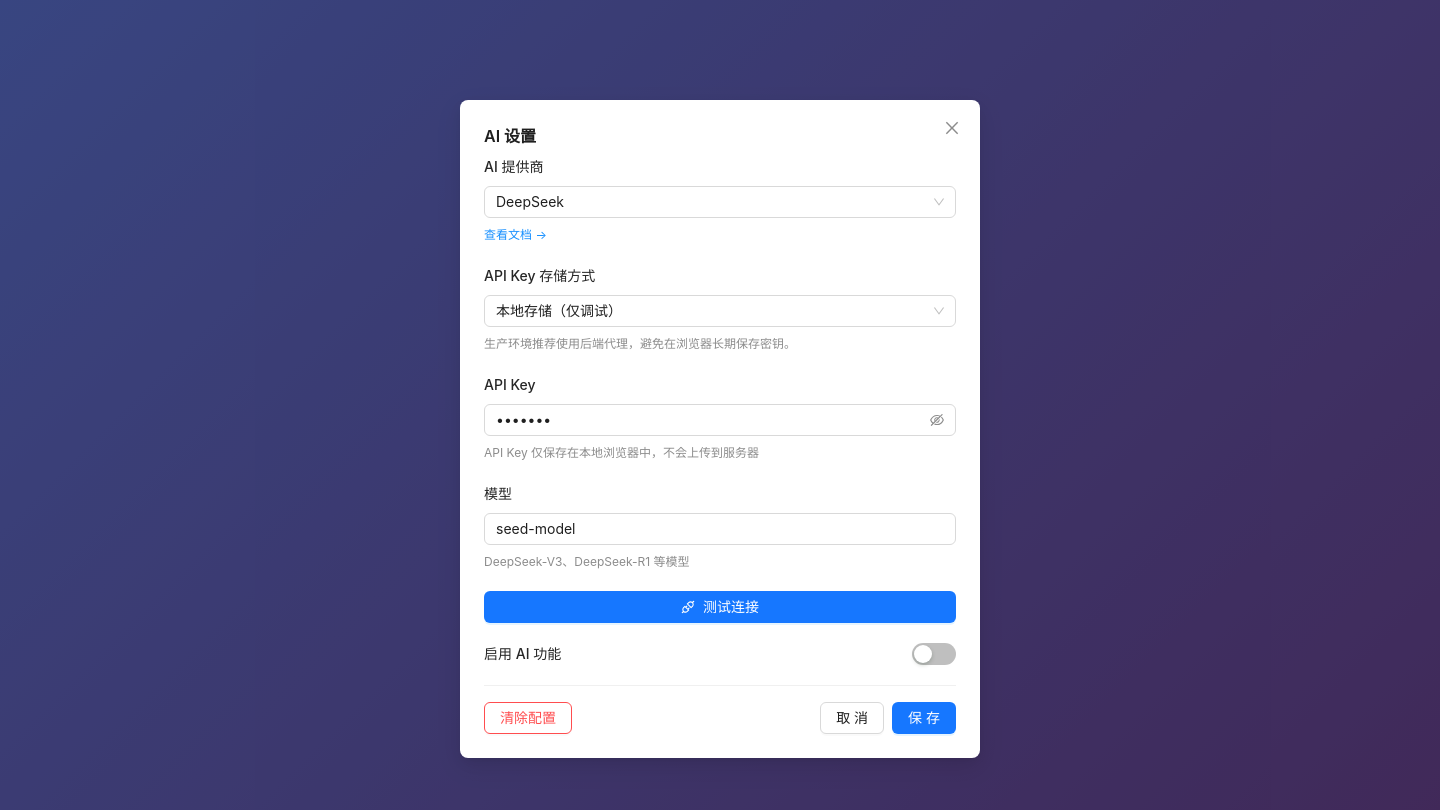
AiSettingsModal 打开时的表单初始化 › 每次打开都按已保存的配置重新灌，而不是只在挂载时灌一次
Expected: the password field holds "sk-seed", [496, 409, 926, 431]
Replace the text in the field with "临时改的" at (720, 528), box [484, 512, 956, 544]
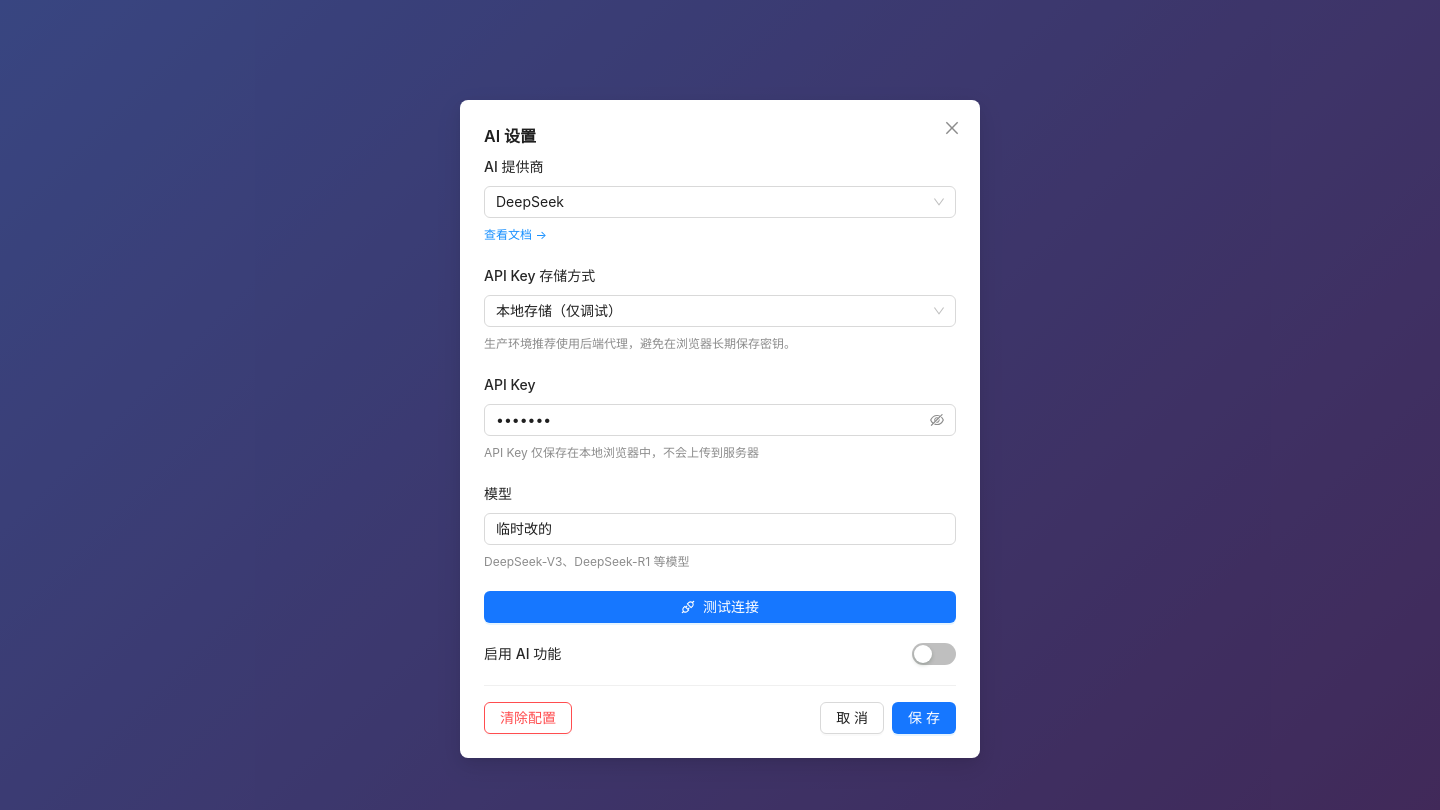
Click the button "取 消" at (852, 718), box [820, 702, 884, 734]
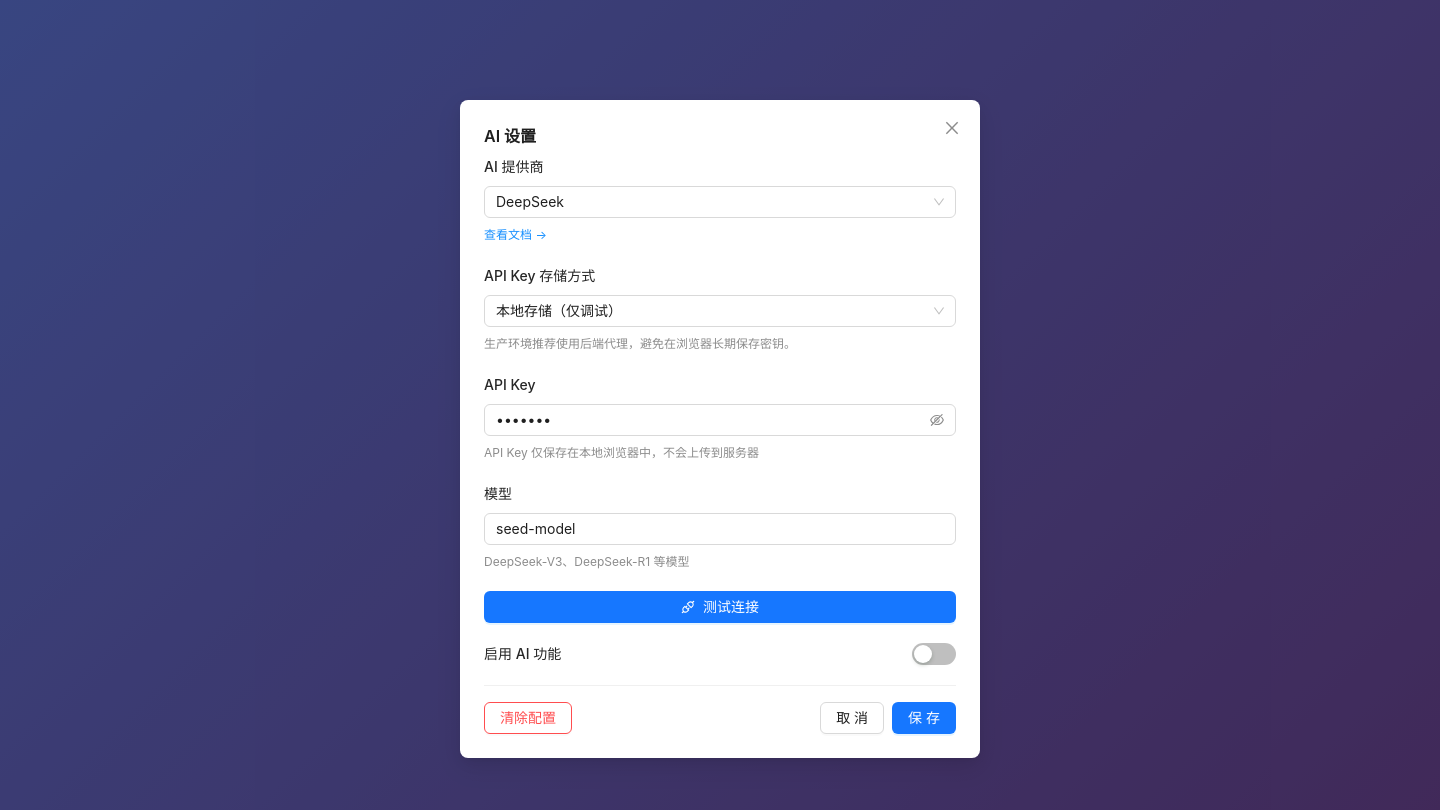
Expected: the field holds "seed-model", [484, 512, 956, 544]
